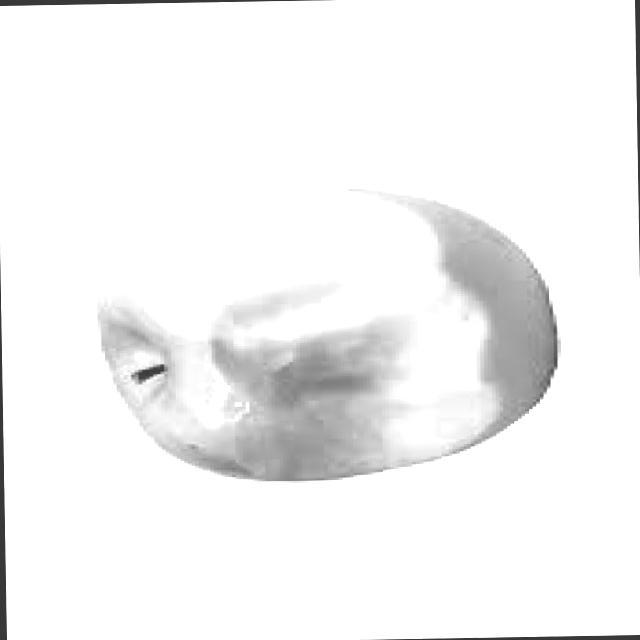Used Apple: (96, 177, 561, 485)
